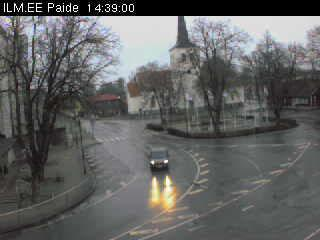car: (148, 144, 170, 171)
